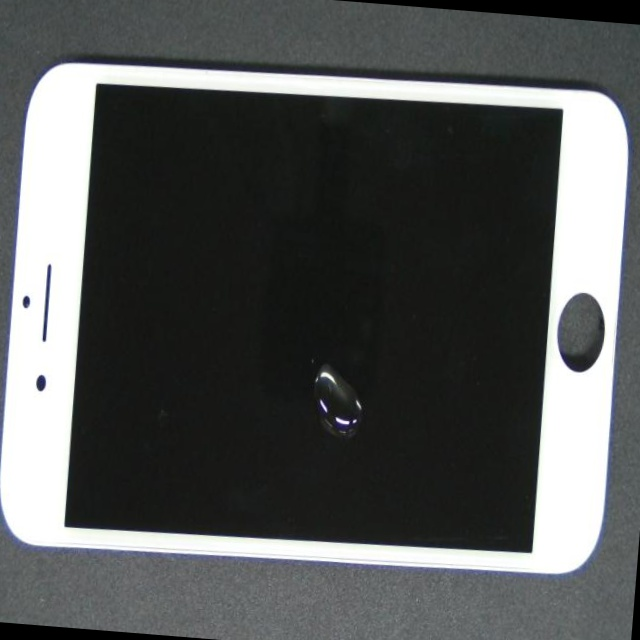oil: (134, 213, 562, 640)
